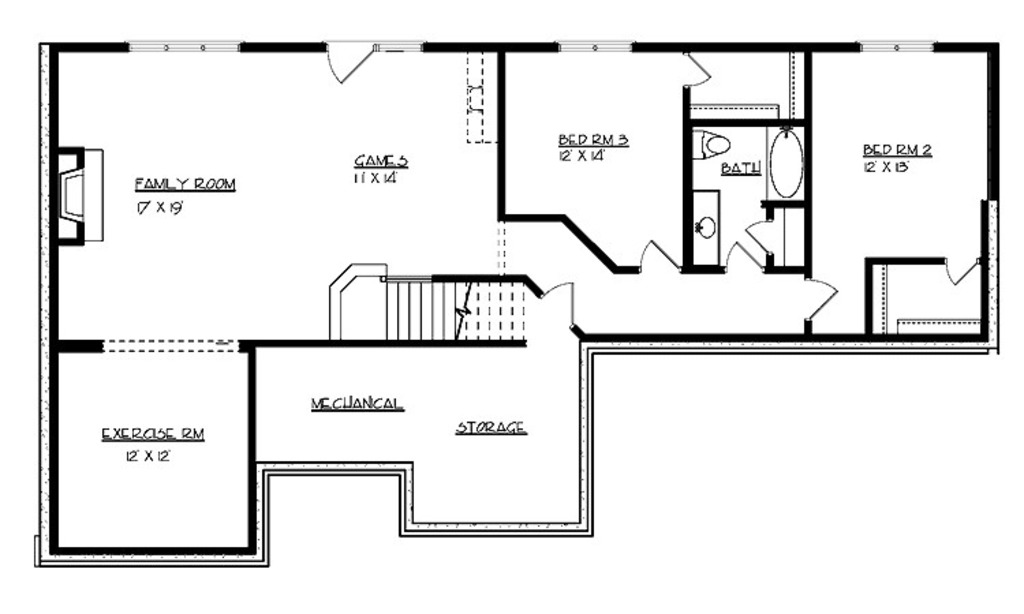door: (318, 33, 379, 86), (542, 282, 583, 326), (637, 237, 683, 276), (678, 48, 718, 86), (805, 278, 839, 317), (726, 241, 761, 272), (744, 220, 775, 255), (944, 259, 980, 289)
large_sink: (690, 127, 736, 163)
small_sink: (693, 188, 726, 265)
stairs: (322, 259, 531, 340)
tub: (767, 124, 805, 200)
window: (126, 33, 244, 58), (856, 37, 934, 57), (557, 40, 633, 55)
